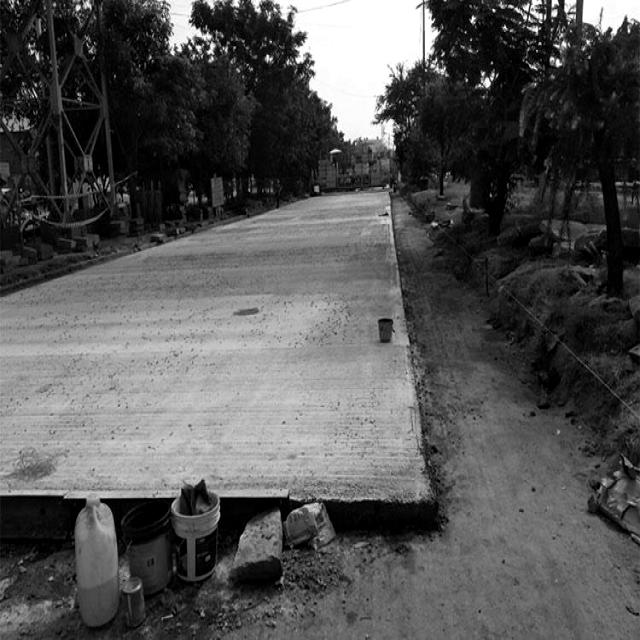cleat: (103, 138, 640, 610)
